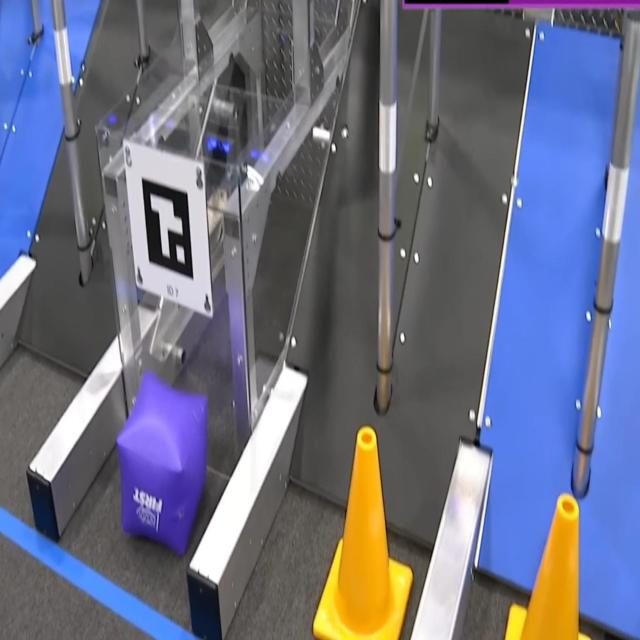frc_cone: (311, 424, 414, 640), (502, 490, 588, 640)
frc_cube: (118, 372, 211, 552)
